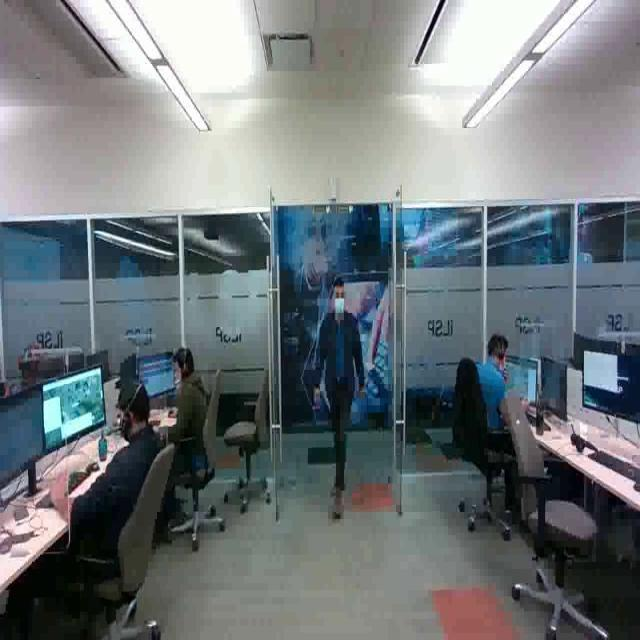hairnet: (172, 360, 188, 391)
